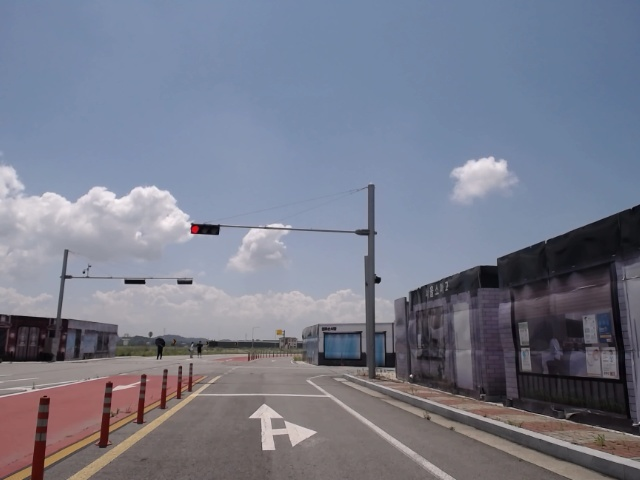red_3: (187, 223, 221, 236)
